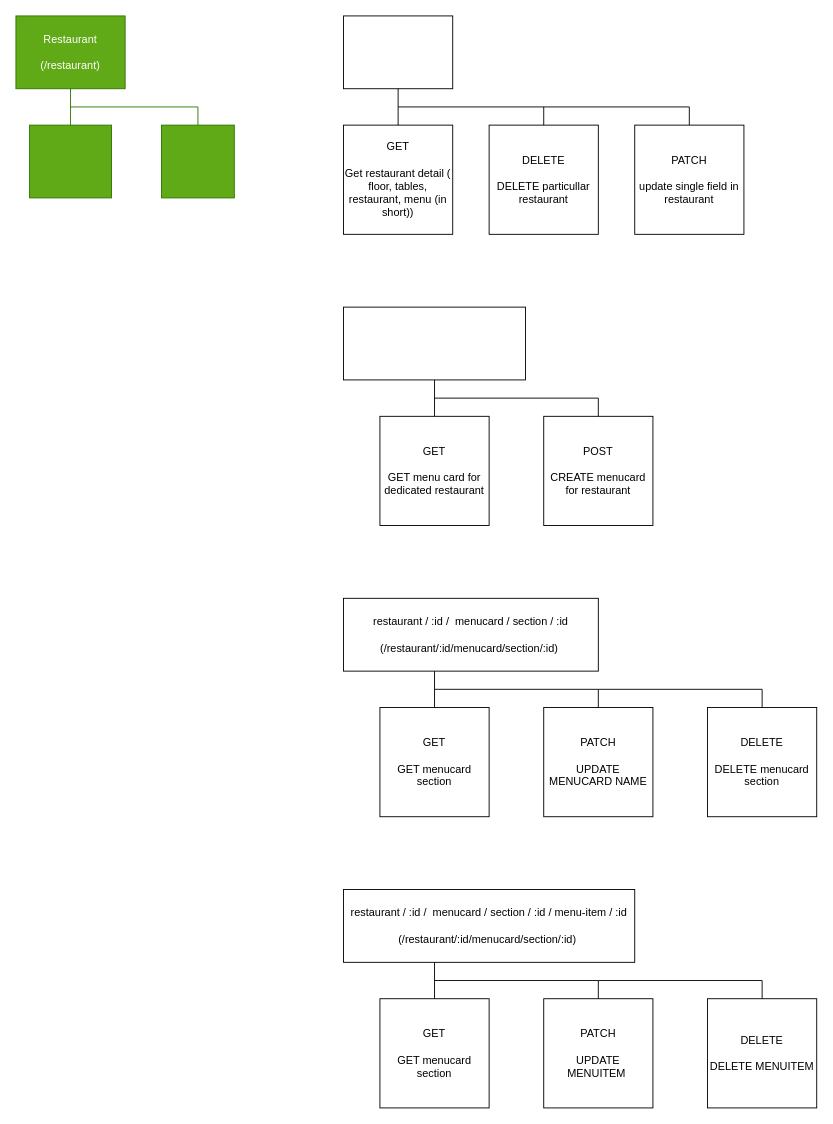
Some shapes in this 833 by 1124 pixel diagram are drawn without their labels. The box of each missing label's shape, as (x1, y1, x2, y2) in pixels:
GET Get all restaurants: (29, 124, 111, 198)
POST Create new restaurant: (161, 124, 234, 198)
Restaurant / :id (/restaurant/:id): (343, 15, 453, 89)
Restaurant / :id / menucard (/restaurant/:id/menucard): (343, 306, 526, 380)
